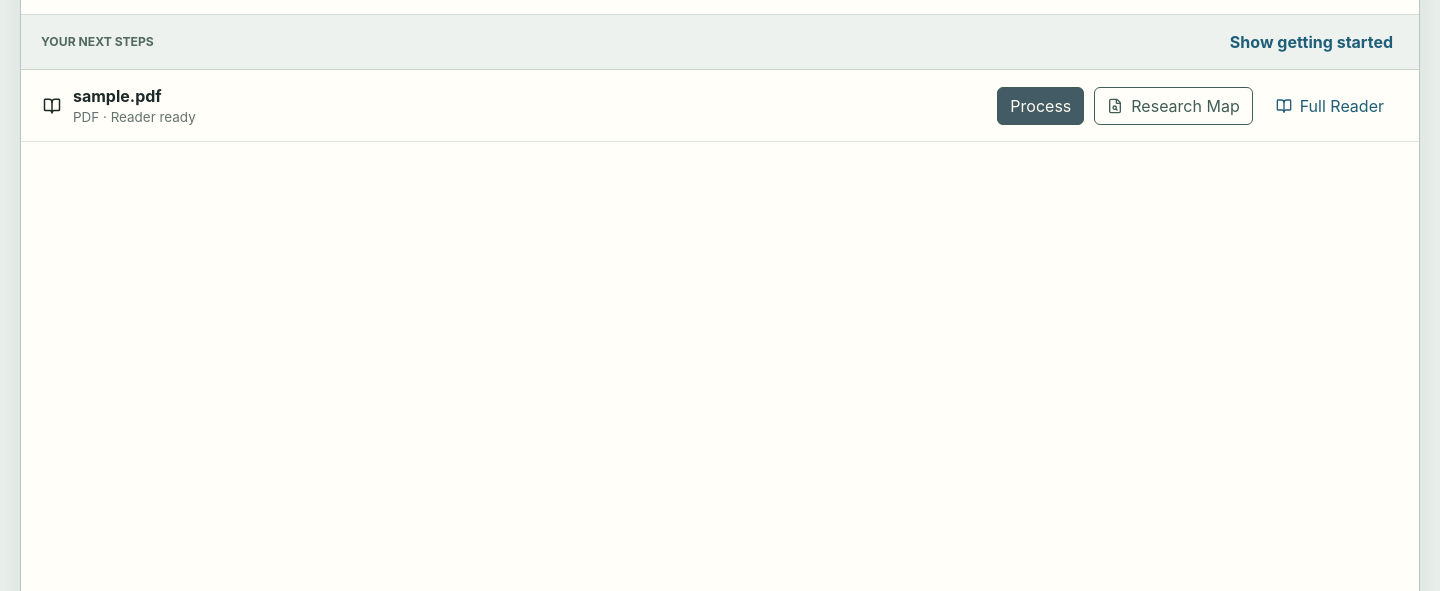
Test case: App › refreshes the authoritative Library summary after a saved review
Click the button with aria-label "Open Research Map for sample.pdf" at (1174,106), box [1094,86,1253,124]
(page scrolled)
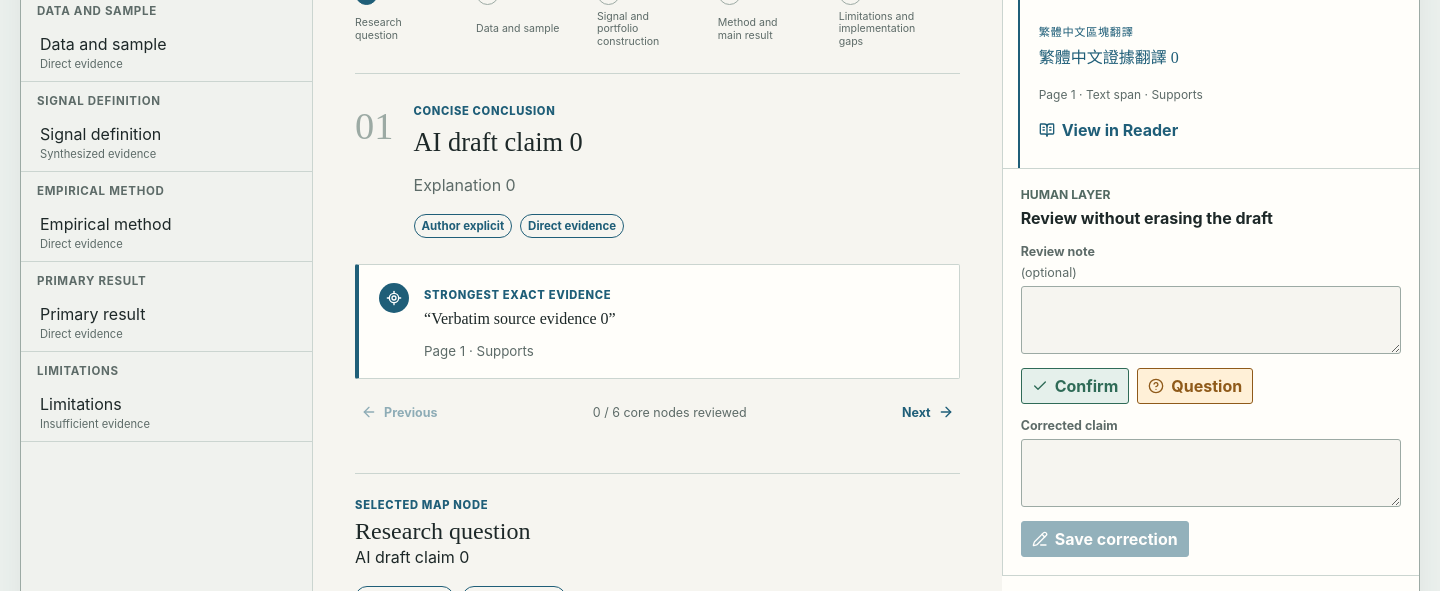
Click the button with aria-label "Confirm claim" at (1075,386), box [1021,368,1129,404]
(page scrolled)
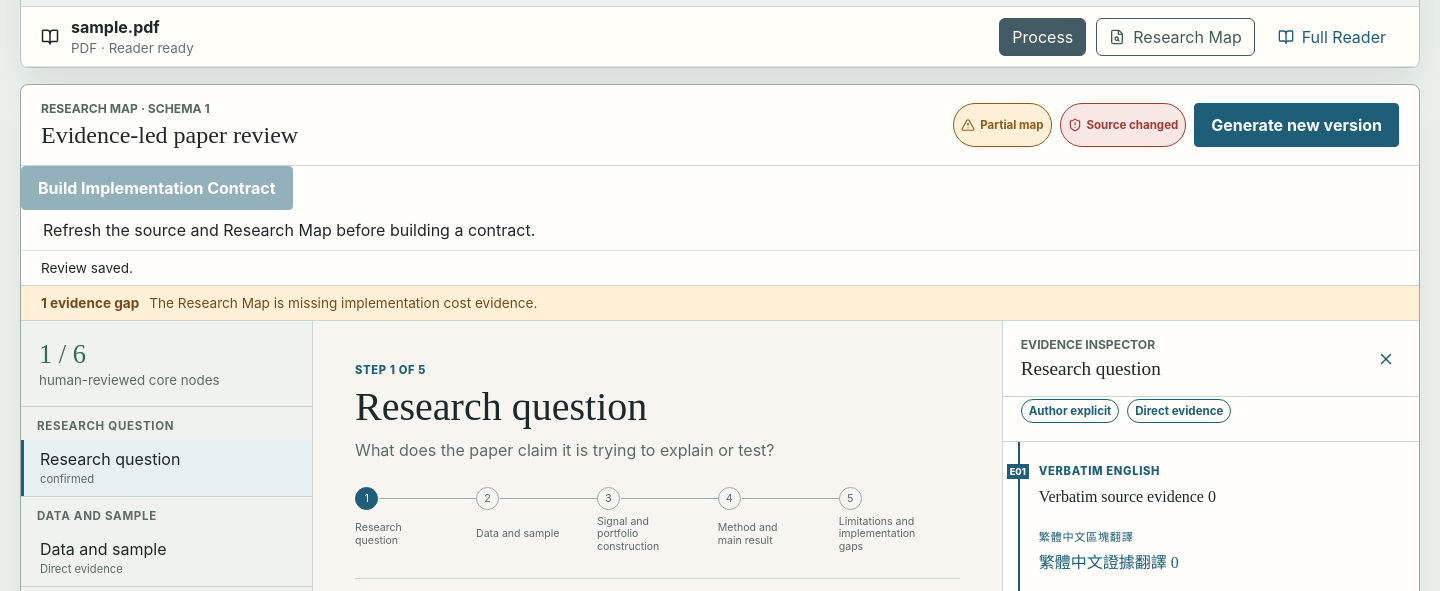
Check: the text "Review saved." is shown, box [21,251,1419,286]
